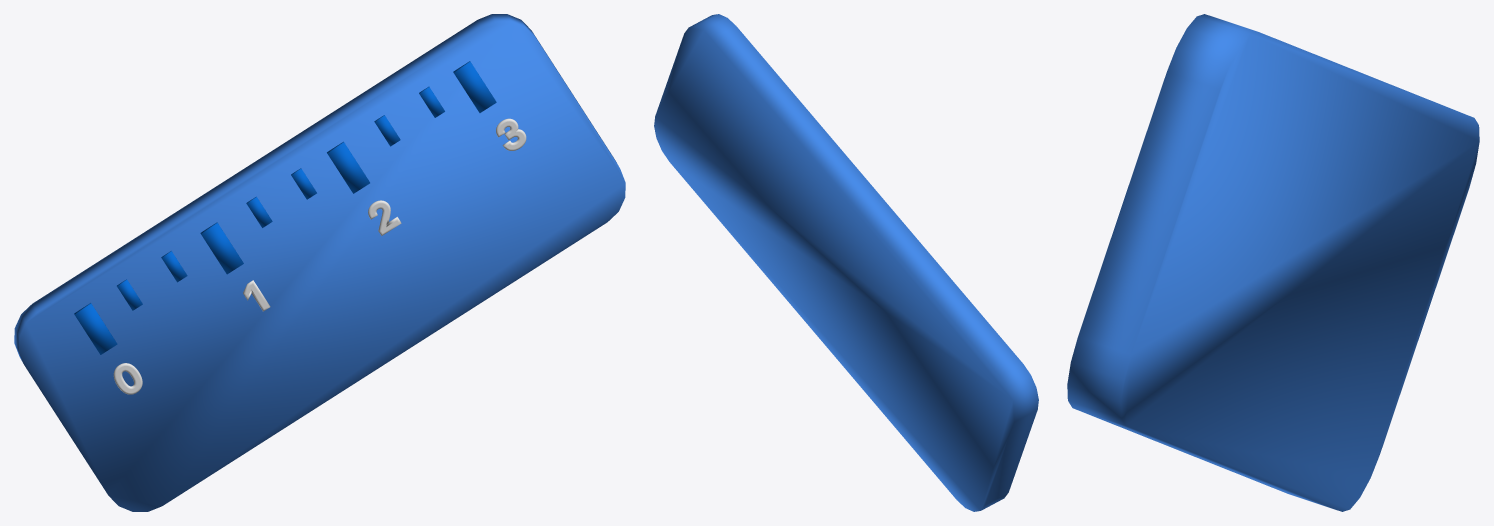
The model's file is ruler.glb.
3 views of the same model, side by side, from view 1: azimuth 30°, elevation 25°; view 2: azimuth 150°, elevation 25°; view 3: azimuth 270°, elevation 25° (orthographic). The views are drawn at different scales.
Visible parts, largest first — view 1: Cube, Cube.010; view 2: Cube; view 3: Cube.
Boxes of the visible parts, bbox=[...] form: Cube: bbox=[14, 14, 625, 511]; Cube.010: bbox=[74, 61, 496, 354]; Cube: bbox=[654, 14, 1038, 511]; Cube: bbox=[1067, 14, 1479, 511].
Bounding box in the file's own units: 6.21 × 5.04 × 2.5.
